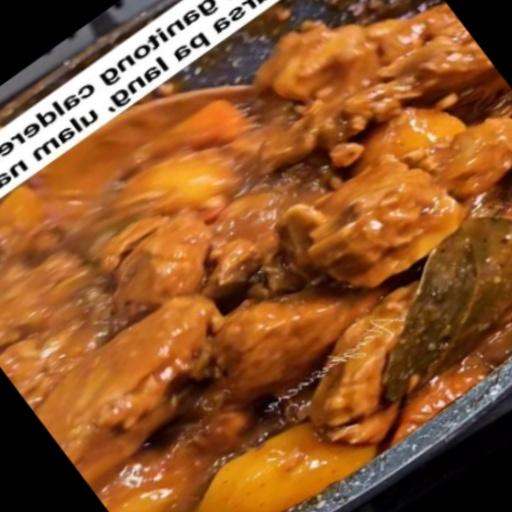pork caldereta: (0, 0, 511, 511)
